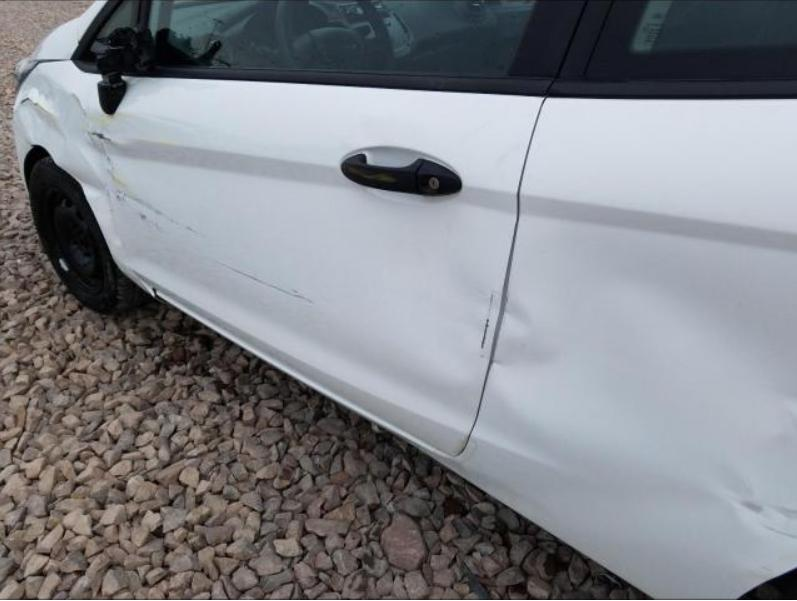Back-door: (457, 0, 796, 596)
Back-window: (587, 0, 796, 75)
Fender: (13, 62, 152, 294)
Front-door: (79, 0, 588, 457)
Front-wheel: (29, 158, 155, 315)
Front-window: (143, 0, 534, 75)
Hood: (19, 0, 110, 84)
Mirror: (80, 0, 145, 118)
Rocker-panel: (154, 285, 714, 599)
